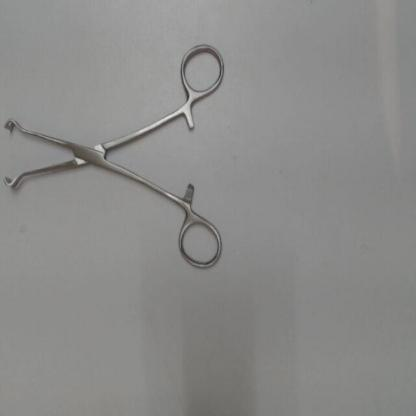Babcock Tissue Forceps: (1, 41, 229, 274)
